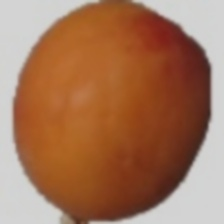apricot: (21, 24, 203, 179)
